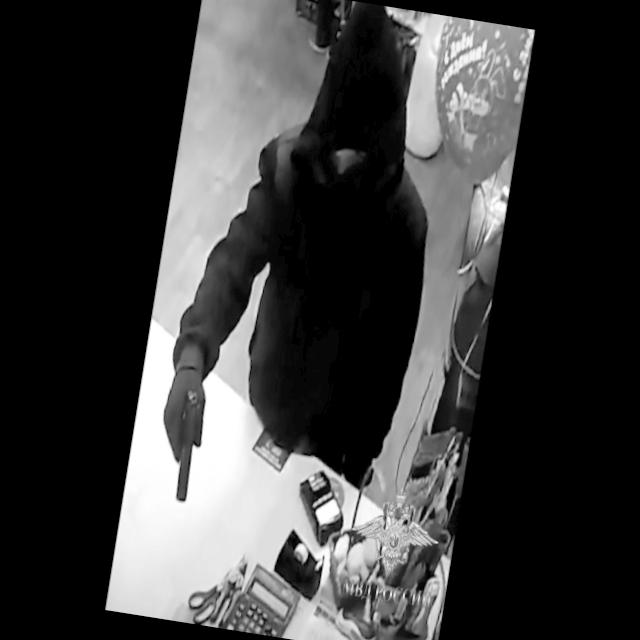gun: (147, 343, 215, 504)
person with a gun: (144, 32, 455, 537)
